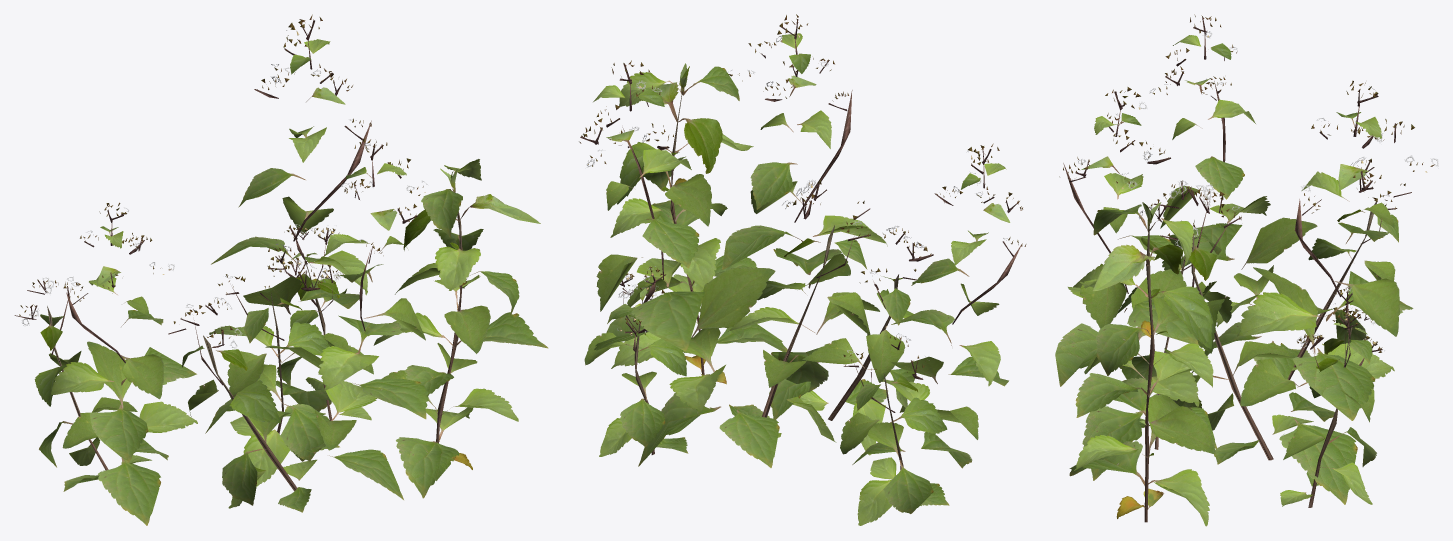
File: Scan_Herbs_B.fbx
The picture shows the model from 3 angles, left to right: view 1: azimuth 30°, elevation 25°; view 2: azimuth 150°, elevation 25°; view 3: azimuth 270°, elevation 25°; orthographic projection. The views are drawn at different scales.
Visible parts, largest first — view 1: Scan_Herbs_B_LOD0; view 2: Scan_Herbs_B_LOD0; view 3: Scan_Herbs_B_LOD0.
Part boxes in pixels (x1,y1,x2,y2): Scan_Herbs_B_LOD0: (14, 14, 548, 525); Scan_Herbs_B_LOD0: (579, 14, 1026, 525); Scan_Herbs_B_LOD0: (1055, 14, 1438, 526).
Size of what is drawn, in the model's own units: 0.6429 by 0.579 by 0.4741.
